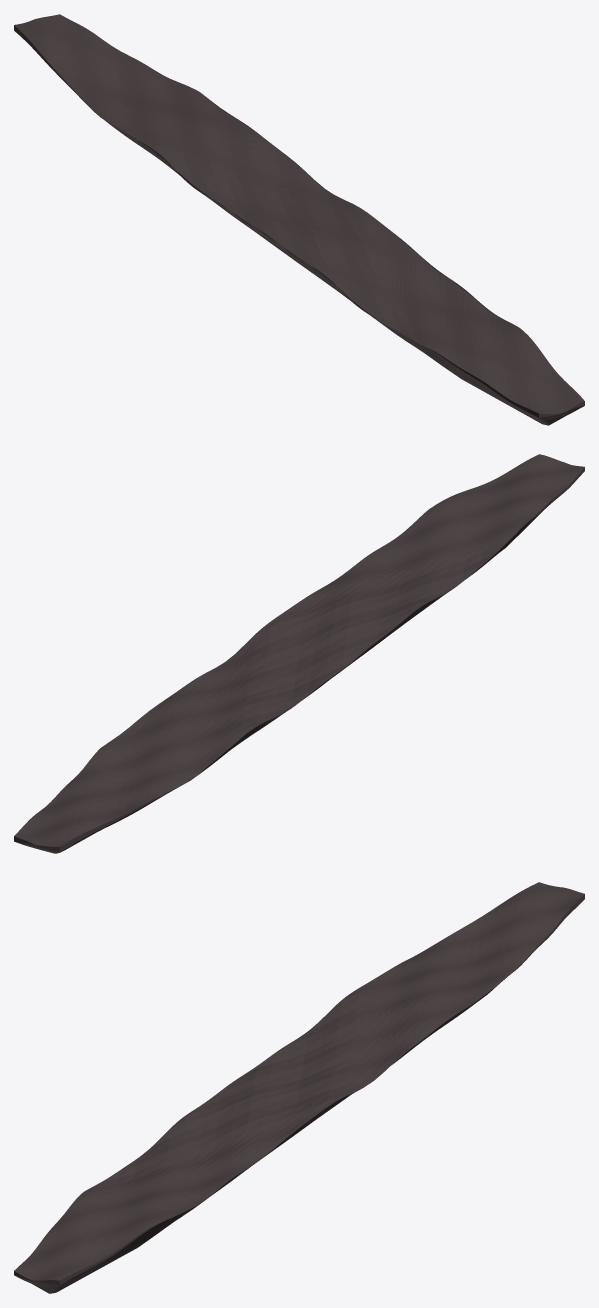
The model's file is asteroid-glace.glb.
The picture shows the model from 3 angles, top to bottom: view 1: azimuth 30°, elevation 25°; view 2: azimuth 150°, elevation 25°; view 3: azimuth 330°, elevation 25°; orthographic projection.
Parts seen in each view (by area): view 1: Asteroide_plein_glace; view 2: Asteroide_plein_glace; view 3: Asteroide_plein_glace.
Boxes of the visible parts, left/top/right/bottom form: Asteroide_plein_glace: left=14, top=14, right=584, bottom=425; Asteroide_plein_glace: left=14, top=454, right=584, bottom=853; Asteroide_plein_glace: left=14, top=882, right=584, bottom=1293.
Bounding box in the file's own units: 13 × 4.95 × 120.
1 material, 1 textured.
